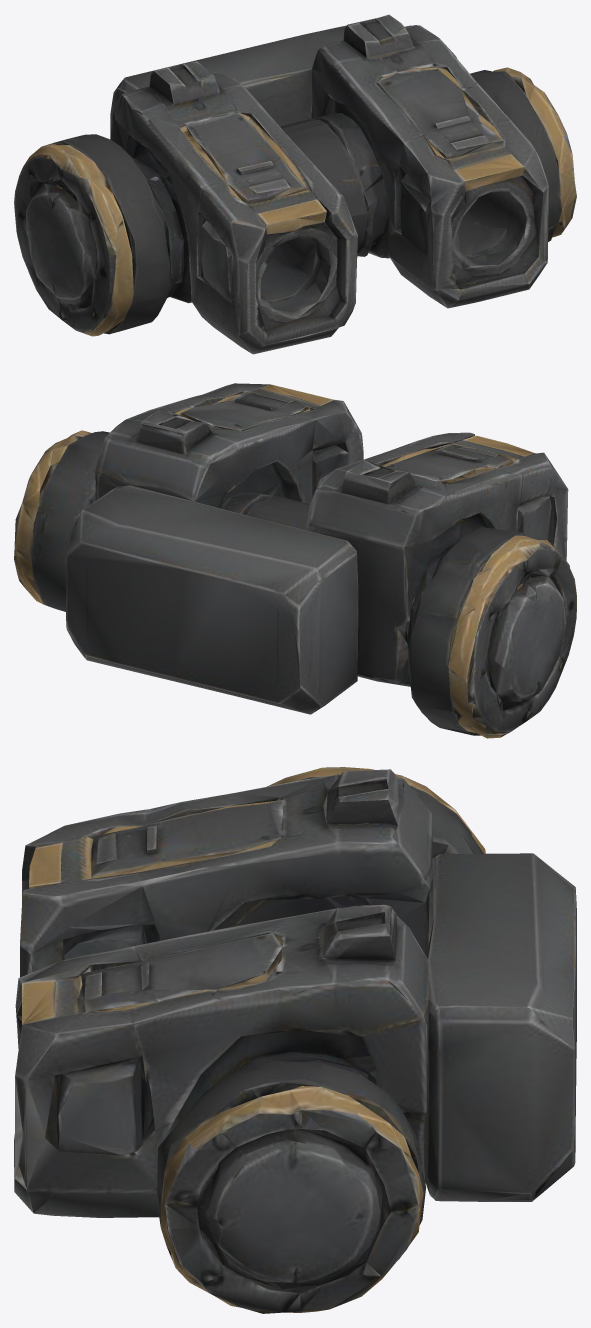
The model's file is imperial_point_defence_turret__cradle_lod1.glb.
3 views of the same model, one above another, from view 1: azimuth 30°, elevation 25°; view 2: azimuth 150°, elevation 25°; view 3: azimuth 270°, elevation 25° (orthographic). The views are drawn at different scales.
Parts seen in each view (by area): view 1: mesh_node; view 2: mesh_node; view 3: mesh_node.
Part boxes in pixels (x1,y1,x2,y2): mesh_node: [14, 14, 576, 354]; mesh_node: [14, 383, 576, 738]; mesh_node: [14, 767, 576, 1313].
Bounding box in the file's own units: 3.54 × 1.56 × 2.53.
1 material, 1 textured.
